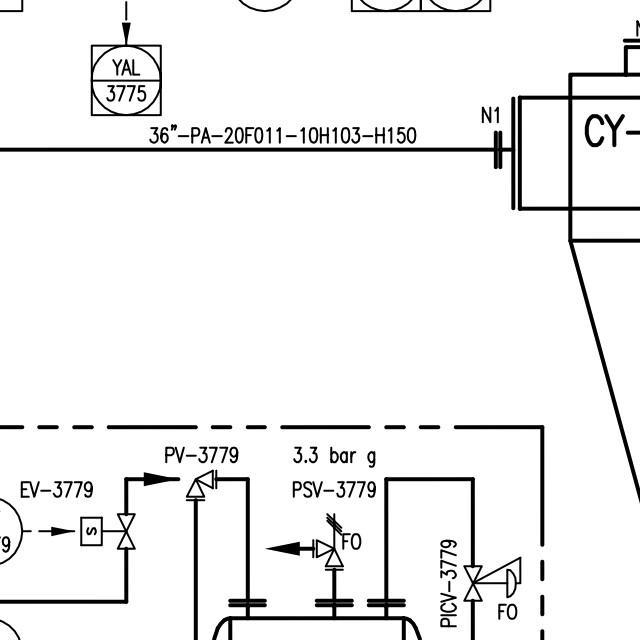PCV: (462, 550, 527, 603)
RPV: (309, 507, 352, 575), (163, 465, 223, 506)
SV: (75, 507, 138, 552)
